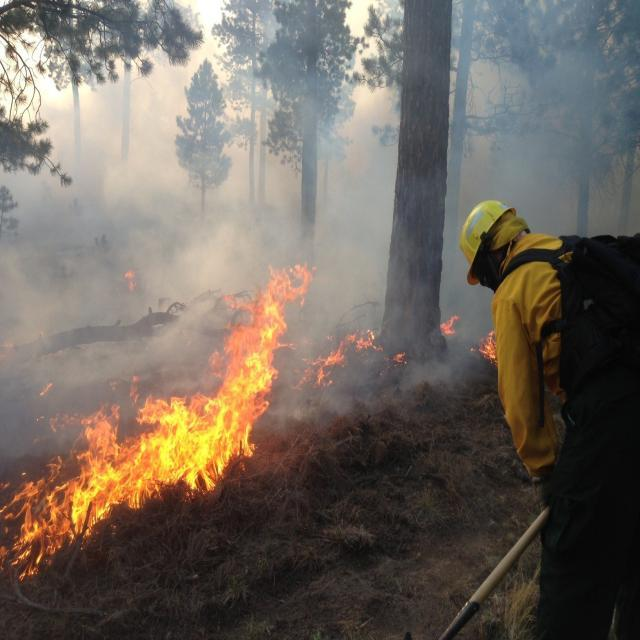Fire: (0, 243, 324, 600), (294, 328, 380, 400), (472, 320, 502, 370), (436, 310, 461, 342), (121, 268, 140, 300)
Smoke: (0, 0, 640, 468)
